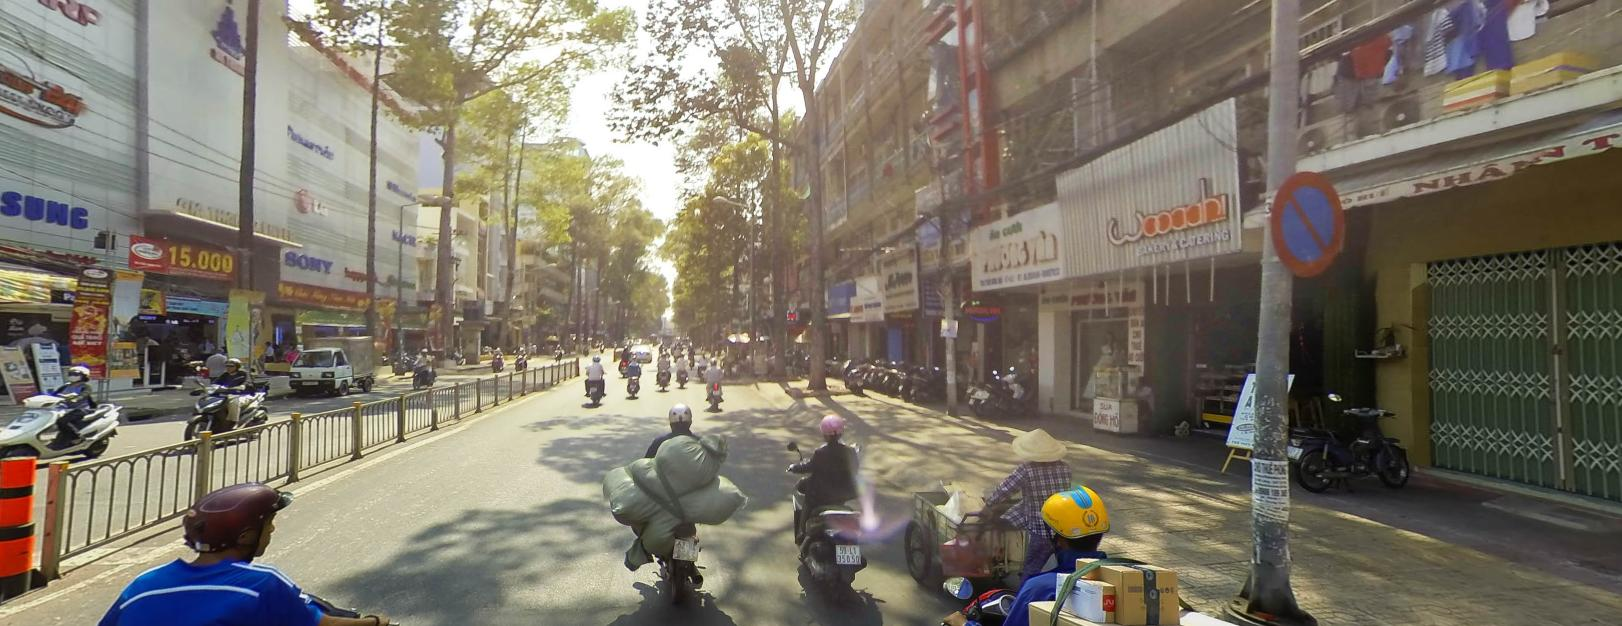Cam dung va do: (1260, 169, 1350, 278)
